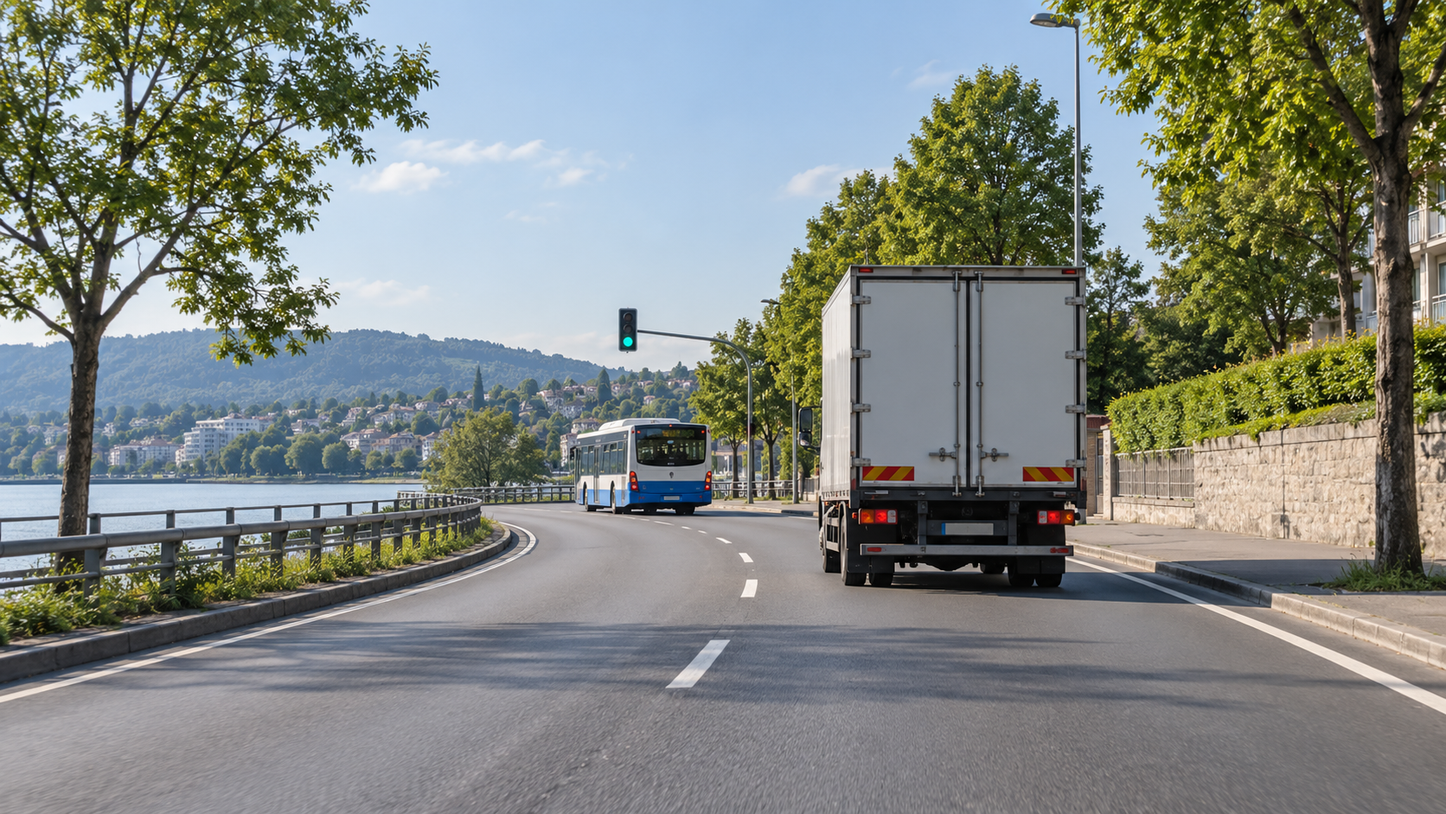bus: (566, 419, 716, 519)
traffic_light: (617, 307, 638, 355)
truck: (816, 264, 1080, 587)
